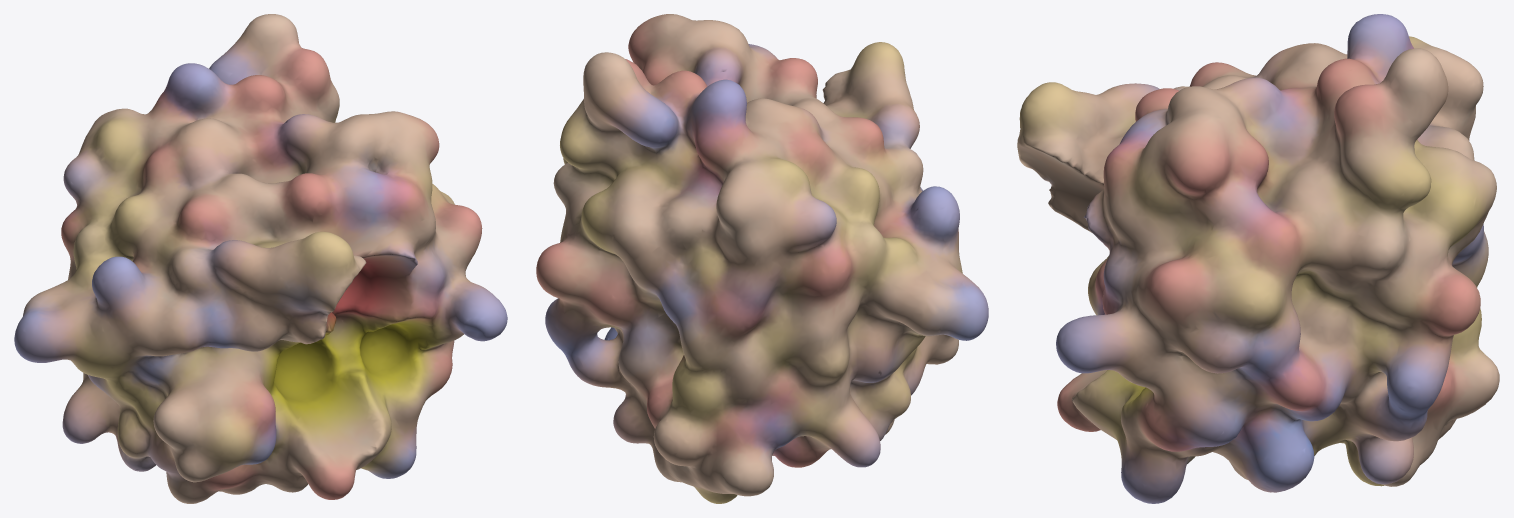
The model's file is trombina.glb.
3 views of the same model, side by side, from view 1: azimuth 30°, elevation 25°; view 2: azimuth 150°, elevation 25°; view 3: azimuth 270°, elevation 25° (orthographic). The views are drawn at different scales.
Parts seen in each view (by area): view 1: geometry_0; view 2: geometry_0; view 3: geometry_0.
Boxes of the visible parts, left/top/right/bottom form: geometry_0: left=14, top=14, right=507, bottom=503; geometry_0: left=536, top=14, right=988, bottom=503; geometry_0: left=1017, top=14, right=1499, bottom=503.
Bounding box in the file's own units: 0.5235 × 0.4957 × 0.4486.
